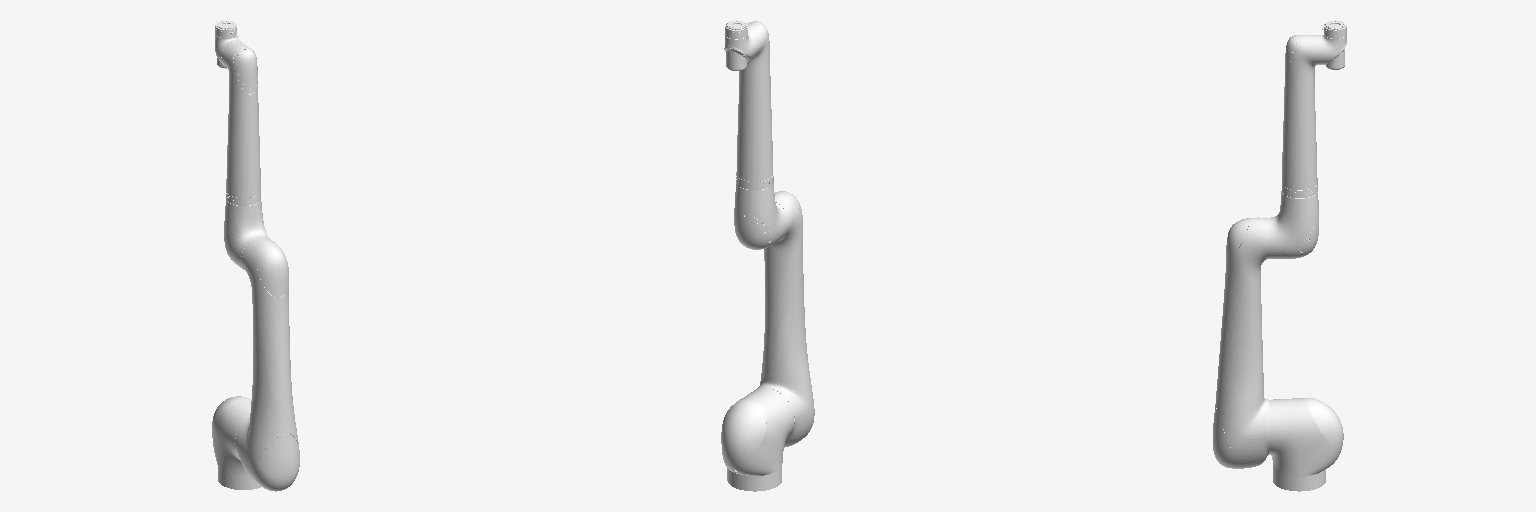
robot.urdf — xMateCR35:
<?xml version="1.0" ?>
<!-- =================================================================================== -->
<!-- |    This document was autogenerated by xacro from /home/gaoyize/rokae_ros_ws/src/rokae_description/urdf/xMateCR35.xacro | -->
<!-- |    EDITING THIS FILE BY HAND IS NOT RECOMMENDED                                 | -->
<!-- =================================================================================== -->
<!-- xMateCR35 manipulator -->
<!--  Attention!!! inertia in the model is not correct!!! -->
<robot name="xMateCR35">
    <!-- Constants for robot dimensions -->
    <material name="black">
        <color rgba="0.0 0.0 0.0 1.0" />
    </material>
    <material name="blue">
        <color rgba="0.0 0.0 0.8 1.0" />
    </material>
    <material name="green">
        <color rgba="0.0 0.8 0.0 1.0" />
    </material>
    <material name="grey">
        <color rgba="0.2 0.2 0.2 1.0" />
    </material>
    <material name="orange">
        <color rgba="1.0 0.4235294117647059 0.0392156862745098 1.0" />
    </material>
    <material name="brown">
        <color rgba="0.8705882352941177 0.8117647058823529 0.7647058823529411 1.0" />
    </material>
    <material name="red">
        <color rgba="0.8 0.0 0.0 1.0" />
    </material>
    <material name="white">
        <color rgba="1.0 1.0 1.0 1.0" />
    </material>
    <material name="Beige">
        <color rgba="1.0 0.784 0.5765 1.0" />
    </material>
    <!-- Used for fixing robot to Gazebo 'base_link' -->
    <link name="world" />
    <joint name="fixed" type="fixed">
        <parent link="world" />
        <child link="xMateCR35_base" />
    </joint>
    <!--base-->
    <link name="xMateCR35_base">
        <visual>
            <geometry>
                <mesh filename="package://rokae_description/meshes/xMateCR35/visual/xMateCR35_base.stl" scale="0.001 0.001 0.001" />
            </geometry>
            <origin rpy="0 0 0" xyz="0.0 0.0 0.0" />
            <material name="white" />
        </visual>
        <inertial>
            <mass value="3.44074938" />
            <inertia ixx="0.01764837" ixy="0" ixz="0" iyy="0.016617391" iyz="-0.002218013" izz="1.120163944" />
            <origin rpy="0 0 0" xyz="-0.000072769597 -0.01679187012 0.2986854502" />
        </inertial>
        <collision>
            <geometry>
                <mesh filename="package://rokae_description/meshes/xMateCR35/collision/xMateCR35_base.stl" scale="0.001 0.001 0.001" />
            </geometry>
            <origin rpy="0 0 0" xyz="0.0 0.0 0.0" />
        </collision>
    </link>
    <joint name="joint1" type="revolute">
        <parent link="xMateCR35_base" />
        <child link="xMateCR35_link1" />
        <limit effort="28.5" lower="-6.283185307179586" upper="6.283185307179586" velocity="2.844246" />
        <axis xyz="0 0 1" />
        <origin rpy="0 0 0" xyz="0 0 0" />
    </joint>
    <transmission name="tran1">
        <type>transmission_interface/SimpleTransmission</type>
        <joint name="joint1">
            <hardwareInterface>hardware_interface/PositionJointInterface</hardwareInterface>
        </joint>
        <actuator name="motor1">
            <hardwareInterface>hardware_interface/PositionJointInterface</hardwareInterface>
            <mechanicalReduction>1</mechanicalReduction>
        </actuator>
    </transmission>
    <!--link 1-->
    <link name="xMateCR35_link1">
        <visual>
            <geometry>
                <mesh filename="package://rokae_description/meshes/xMateCR35/visual/xMateCR35_link1.stl" scale="0.001 0.001 0.001" />
            </geometry>
            <origin rpy="0 0 0" xyz="0 0 0" />
            <material name="white" />
        </visual>
        <inertial>
            <mass value="3.44074938" />
            <inertia ixx="0.01764837" ixy="0" ixz="0" iyy="0.016617391" iyz="-0.002218013" izz="1.120163944" />
            <origin rpy="0 0 0" xyz="-0.000072769597 -0.01679187012 0.2986854502" />
        </inertial>
        <collision>
            <geometry>
                <mesh filename="package://rokae_description/meshes/xMateCR35/collision/xMateCR35_link1.stl" scale="0.001 0.001 0.001" />
            </geometry>
            <origin rpy="0 0 0" xyz="0 0 0" />
        </collision>
    </link>
    <joint name="joint2" type="revolute">
        <parent link="xMateCR35_link1" />
        <child link="xMateCR35_link2" />
        <limit effort="28.5" lower="-6.283185307179586" upper="6.283185307179586" velocity="2.844246" />
        <axis xyz="0 1 0" />
        <origin rpy="0 0 0" xyz="0 0 0.425" />
    </joint>
    <transmission name="tran2">
        <type>transmission_interface/SimpleTransmission</type>
        <joint name="joint2">
            <hardwareInterface>hardware_interface/PositionJointInterface</hardwareInterface>
        </joint>
        <actuator name="motor2">
            <hardwareInterface>hardware_interface/PositionJointInterface</hardwareInterface>
            <mechanicalReduction>1</mechanicalReduction>
        </actuator>
    </transmission>
    <!--link 2-->
    <link name="xMateCR35_link2">
        <visual>
            <geometry>
                <mesh filename="package://rokae_description/meshes/xMateCR35/visual/xMateCR35_link2.stl" scale="0.001 0.001 0.001" />
            </geometry>
            <origin rpy="0 0 0" xyz="0 0 0.0" />
            <material name="white" />
        </visual>
        <inertial>
            <mass value="5.024380503" />
            <inertia ixx="0.136759927" ixy="0" ixz="0" iyy="1.747453457" iyz="-0.024189444" izz="0.012535321" />
            <origin rpy="0 0 0" xyz="-0 0.003491209523 0.2410487354" />
        </inertial>
        <collision>
            <geometry>
                <mesh filename="package://rokae_description/meshes/xMateCR35/collision/xMateCR35_link2.stl" scale="0.001 0.001 0.001" />
            </geometry>
            <origin rpy="0 0 0" xyz="0 0 0.0" />
        </collision>
    </link>
    <joint name="joint3" type="revolute">
        <parent link="xMateCR35_link2" />
        <child link="xMateCR35_link3" />
        <limit effort="19.1" lower="-2.8972465583105865" upper="2.8972465583105865" velocity="2.094395" />
        <axis xyz="0 -1 0" />
        <origin rpy="0 0 0" xyz="0 0 1.05" />
    </joint>
    <transmission name="tran3">
        <type>transmission_interface/SimpleTransmission</type>
        <joint name="joint3">
            <hardwareInterface>hardware_interface/PositionJointInterface</hardwareInterface>
        </joint>
        <actuator name="motor3">
            <hardwareInterface>hardware_interface/PositionJointInterface</hardwareInterface>
            <mechanicalReduction>1</mechanicalReduction>
        </actuator>
    </transmission>
    <!--${nameofManipulator}_link 3-->
    <link name="xMateCR35_link3">
        <visual>
            <geometry>
                <mesh filename="package://rokae_description/meshes/xMateCR35/visual/xMateCR35_link3.stl" scale="0.001 0.001 0.001" />
            </geometry>
            <origin rpy="0 0 0" xyz="0 0 0" />
            <material name="white" />
        </visual>
        <inertial>
            <mass value="2.439584706" />
            <inertia ixx="0.026159338" ixy="0" ixz="0" iyy="0.024282179" iyz="-0.00615637" izz="1.11989835" />
            <origin rpy="0 0 0" xyz="0 0.023 0.097" />
        </inertial>
        <collision>
            <geometry>
                <mesh filename="package://rokae_description/meshes/xMateCR35/collision/xMateCR35_link3.stl" scale="0.001 0.001 0.001" />
            </geometry>
            <origin rpy="0 0 0" xyz="0 0 0" />
        </collision>
    </link>
    <joint name="joint4" type="revolute">
        <parent link="xMateCR35_link3" />
        <child link="xMateCR35_link4" />
        <limit effort="9.6" lower="-6.283185307179586" upper="6.283185307179586" velocity="2.181662" />
        <!--     lower="-2.79" upper="2.79" -->
        <axis xyz="0 0 1" />
        <!--     <origin rpy="0 0 0" xyz="0.585 0.0 0.035"/> -->
        <origin rpy="0 0 0" xyz="0 0 1.05" />
    </joint>
    <transmission name="tran4">
        <type>transmission_interface/SimpleTransmission</type>
        <joint name="joint4">
            <hardwareInterface>hardware_interface/PositionJointInterface</hardwareInterface>
        </joint>
        <actuator name="motor4">
            <hardwareInterface>hardware_interface/PositionJointInterface</hardwareInterface>
            <mechanicalReduction>1</mechanicalReduction>
        </actuator>
    </transmission>
    <!--link 4-->
    <link name="xMateCR35_link4">
        <visual>
            <geometry>
                <mesh filename="package://rokae_description/meshes/xMateCR35/visual/xMateCR35_link4.stl" scale=".001 0.001 0.001" />
            </geometry>
            <origin rpy="0 0 0" xyz="0.0 0.0 0.0" />
            <material name="white" />
        </visual>
        <inertial>
            <mass value="2.439584706" />
            <inertia ixx="0.012" ixy="0" ixz="0" iyy="0.221" iyz="-0.002" izz="0.004" />
            <origin rpy="0 0 0" xyz="0 -0.020 -0.046" />
        </inertial>
        <collision>
            <geometry>
                <mesh filename="package://rokae_description/meshes/xMateCR35/collision/xMateCR35_link4.stl" scale="0.001 0.001 0.001" />
            </geometry>
            <origin rpy="0 0 0" xyz="0.0 0.0 0.0" />
        </collision>
    </link>
    <joint name="joint5" type="revolute">
        <parent link="xMateCR35_link4" />
        <child link="xMateCR35_link5" />
        <limit effort="5.4" lower="-6.283185307179586" upper="6.283185307179586" velocity="3.490659" />
        <axis xyz="0 -1 0" />
        <origin rpy="0 0 0" xyz="0 0.18 0" />
    </joint>
    <transmission name="tran5">
        <type>transmission_interface/SimpleTransmission</type>
        <joint name="joint5">
            <hardwareInterface>hardware_interface/PositionJointInterface</hardwareInterface>
        </joint>
        <actuator name="motor5">
            <hardwareInterface>hardware_interface/PositionJointInterface</hardwareInterface>
            <mechanicalReduction>1</mechanicalReduction>
        </actuator>
    </transmission>
    <!--link 5-->
    <link name="xMateCR35_link5">
        <visual>
            <geometry>
                <mesh filename="package://rokae_description/meshes/xMateCR35/visual/xMateCR35_link5.stl" scale="0.001 0.001 0.001" />
            </geometry>
            <origin rpy="0 0 0" xyz="0 0 0" />
            <material name="white" />
        </visual>
        <inertial>
            <mass value="2.422757896" />
            <inertia ixx="0.016" ixy="0" ixz="0" iyy="0.015" iyz="-0.002" izz="0.213" />
            <origin rpy="0 0 0" xyz="0 0.012 0.096" />
        </inertial>
        <collision>
            <geometry>
                <mesh filename="package://rokae_description/meshes/xMateCR35/collision/xMateCR35_link5.stl" scale="0.001 0.001 0.001" />
            </geometry>
            <origin rpy="0 0 0" xyz="0 0 0" />
        </collision>
    </link>
    <joint name="joint6" type="revolute">
        <parent link="xMateCR35_link5" />
        <child link="xMateCR35_link6" />
        <limit effort="2.86" lower="-6.283185307179586" upper="6.283185307179586" velocity="4.014257" />
        <axis xyz="0 0 1" />
        <origin rpy="0.0 0.0 0" xyz="0 0 0.14" />
    </joint>
    <transmission name="tran6">
        <type>transmission_interface/SimpleTransmission</type>
        <joint name="joint6">
            <hardwareInterface>hardware_interface/PositionJointInterface</hardwareInterface>
        </joint>
        <actuator name="motor6">
            <hardwareInterface>hardware_interface/PositionJointInterface</hardwareInterface>
            <mechanicalReduction>1</mechanicalReduction>
        </actuator>
    </transmission>
    <!--link 6-->
    <link name="xMateCR35_link6">
        <visual>
            <geometry>
                <mesh filename="package://rokae_description/meshes/xMateCR35/visual/xMateCR35_link6.stl" scale="0.001 0.001 0.001" />
            </geometry>
            <origin rpy="0 0 0" xyz="0.0 0.0 0.0" />
            <material name="white" />
        </visual>
        <inertial>
            <mass value="1.229800857" />
            <inertia ixx="0.002" ixy="-0.000000" ixz="-0.000000" iyy="0.212" iyz="-0.000000" izz="0.002" />
            <origin rpy="0 0 0" xyz="0 0.017 -0.043" />
        </inertial>
        <collision>
            <geometry>
                <mesh filename="package://rokae_description/meshes/xMateCR35/collision/xMateCR35_link6.stl" scale="0.001 0.001 0.001" />
            </geometry>
            <origin rpy="0 0 0" xyz="0.0 0.0 0.0" />
        </collision>
    </link>
    <transmission name="trans_joint1">
        <type>transmission_interface/SimpleTransmission</type>
        <joint name="joint1">
            <hardwareInterface>hardware_interface/PositionJointInterface</hardwareInterface>
        </joint>
        <actuator name="joint1_motor">
            <hardwareInterface>hardware_interface/PositionJointInterface</hardwareInterface>
            <mechanicalReduction>1</mechanicalReduction>
        </actuator>
    </transmission>
    <transmission name="trans_joint2">
        <type>transmission_interface/SimpleTransmission</type>
        <joint name="joint2">
            <hardwareInterface>hardware_interface/PositionJointInterface</hardwareInterface>
        </joint>
        <actuator name="joint2_motor">
            <hardwareInterface>hardware_interface/PositionJointInterface</hardwareInterface>
            <mechanicalReduction>1</mechanicalReduction>
        </actuator>
    </transmission>
    <transmission name="trans_joint3">
        <type>transmission_interface/SimpleTransmission</type>
        <joint name="joint3">
            <hardwareInterface>hardware_interface/PositionJointInterface</hardwareInterface>
        </joint>
        <actuator name="joint3_motor">
            <hardwareInterface>hardware_interface/PositionJointInterface</hardwareInterface>
            <mechanicalReduction>1</mechanicalReduction>
        </actuator>
    </transmission>
    <transmission name="trans_joint4">
        <type>transmission_interface/SimpleTransmission</type>
        <joint name="joint4">
            <hardwareInterface>hardware_interface/PositionJointInterface</hardwareInterface>
        </joint>
        <actuator name="joint4_motor">
            <hardwareInterface>hardware_interface/PositionJointInterface</hardwareInterface>
            <mechanicalReduction>1</mechanicalReduction>
        </actuator>
    </transmission>
    <transmission name="trans_joint5">
        <type>transmission_interface/SimpleTransmission</type>
        <joint name="joint5">
            <hardwareInterface>hardware_interface/PositionJointInterface</hardwareInterface>
        </joint>
        <actuator name="joint5_motor">
            <hardwareInterface>hardware_interface/PositionJointInterface</hardwareInterface>
            <mechanicalReduction>1</mechanicalReduction>
        </actuator>
    </transmission>
    <transmission name="trans_joint6">
        <type>transmission_interface/SimpleTransmission</type>
        <joint name="joint6">
            <hardwareInterface>hardware_interface/PositionJointInterface</hardwareInterface>
        </joint>
        <actuator name="joint6_motor">
            <hardwareInterface>hardware_interface/PositionJointInterface</hardwareInterface>
            <mechanicalReduction>1</mechanicalReduction>
        </actuator>
    </transmission>
    <gazebo>
        <plugin name="gazebo_ros_control" filename = "libgazebo_ros_control.so">
            <robotNamespace>/</robotNamespace>
        </plugin>
    </gazebo>
</robot>

--- Facts derived from the render (not from the file) ---
The picture shows the robot from 3 angles, left to right: view 1: azimuth 30°, elevation 25°; view 2: azimuth 150°, elevation 25°; view 3: azimuth 270°, elevation 25°; orthographic projection.
Model xMateCR35 with 8 links and 7 joints (6 revolute, 1 fixed), rooted at world, posed every joint at zero.
Visible links, largest first — view 1: xMateCR35_link2, xMateCR35_link4, xMateCR35_link1, xMateCR35_link3; view 2: xMateCR35_link2, xMateCR35_link1, xMateCR35_link4, xMateCR35_link3, xMateCR35_link5; view 3: xMateCR35_link2, xMateCR35_link1, xMateCR35_link4, xMateCR35_link3, xMateCR35_link5.
Link boxes in pixels (box(x1,y1,x2,y2)): xMateCR35_link2: box(235, 237, 299, 491); xMateCR35_link4: box(222, 41, 260, 205); xMateCR35_link1: box(212, 396, 260, 489); xMateCR35_link3: box(224, 200, 269, 269); xMateCR35_link2: box(754, 191, 814, 447); xMateCR35_link1: box(721, 388, 794, 491); xMateCR35_link4: box(736, 21, 773, 189); xMateCR35_link3: box(734, 183, 788, 249); xMateCR35_link5: box(724, 32, 757, 70); xMateCR35_link2: box(1213, 217, 1269, 468); xMateCR35_link1: box(1270, 398, 1343, 491); xMateCR35_link4: box(1282, 35, 1318, 197); xMateCR35_link3: box(1269, 191, 1318, 258); xMateCR35_link5: box(1319, 35, 1346, 69).
Bounding box of the posed robot: 0.2813 × 0.6796 × 2.54 m (x, y, z).
6 mesh visuals loaded from 7 distinct referenced files (6 binary STL); not drawn: 1 (reference not matched to a file when rendering).
